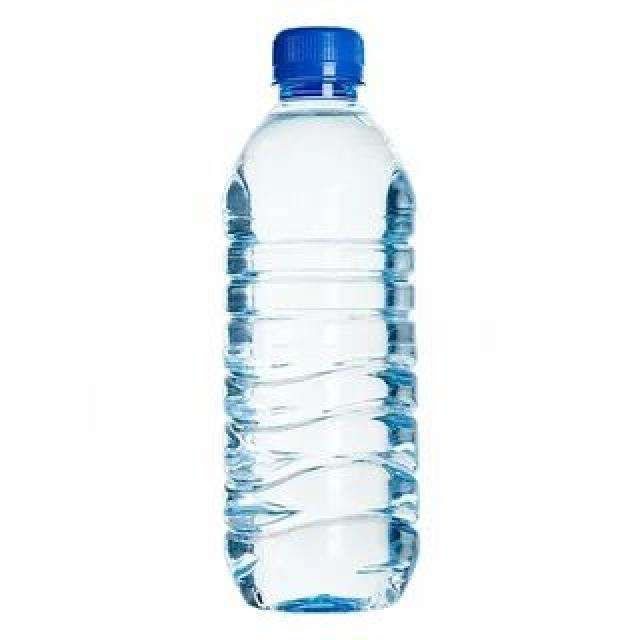blue: (224, 78, 418, 615)
